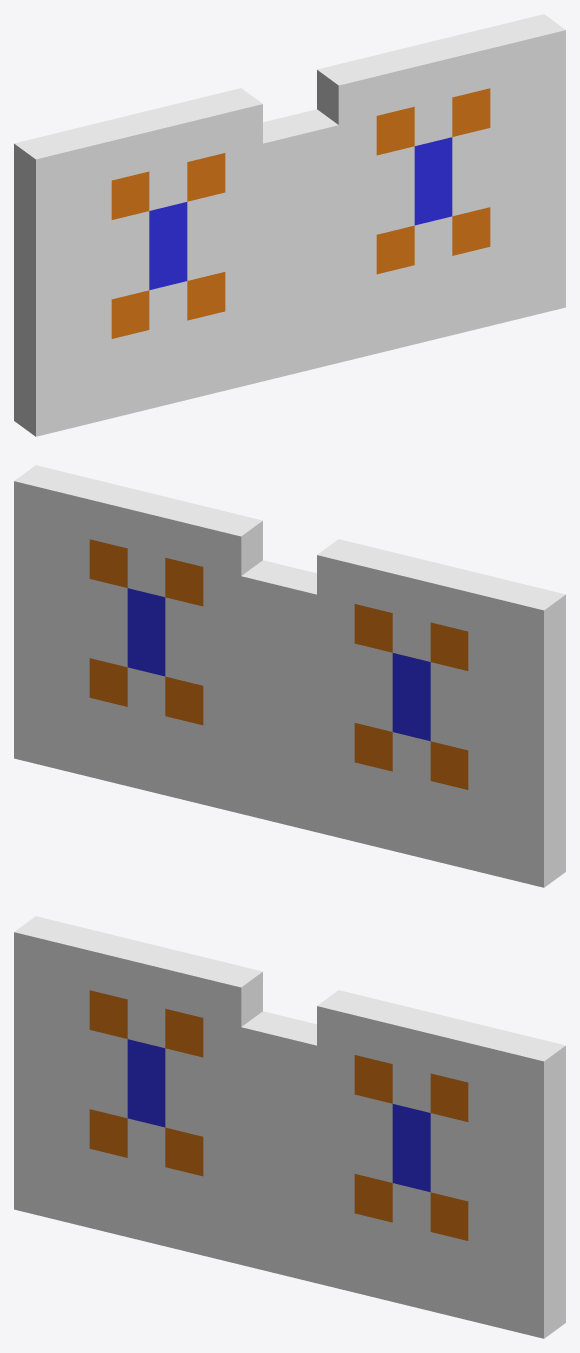
The picture shows the model from 3 angles, top to bottom: view 1: azimuth 30°, elevation 25°; view 2: azimuth 150°, elevation 25°; view 3: azimuth 330°, elevation 25°; orthographic projection.
Parts seen in each view (by area): view 1: eye-shapes061, eye-shapes023, eye-shapes024; view 2: eye-shapes061, eye-shapes023, eye-shapes024; view 3: eye-shapes061, eye-shapes023, eye-shapes024.
Boxes of the visible parts, x1,y1,x2,y2 form: eye-shapes061: (14,14,565,436); eye-shapes023: (111,88,490,338); eye-shapes024: (149,137,452,290); eye-shapes061: (14,465,565,887); eye-shapes023: (89,539,468,789); eye-shapes024: (127,588,430,741); eye-shapes061: (14,916,565,1338); eye-shapes023: (89,990,468,1240); eye-shapes024: (127,1039,430,1192).
Bounding box in the file's own units: 140 × 70 × 10.
Materials: 3 (3 with a texture image).
